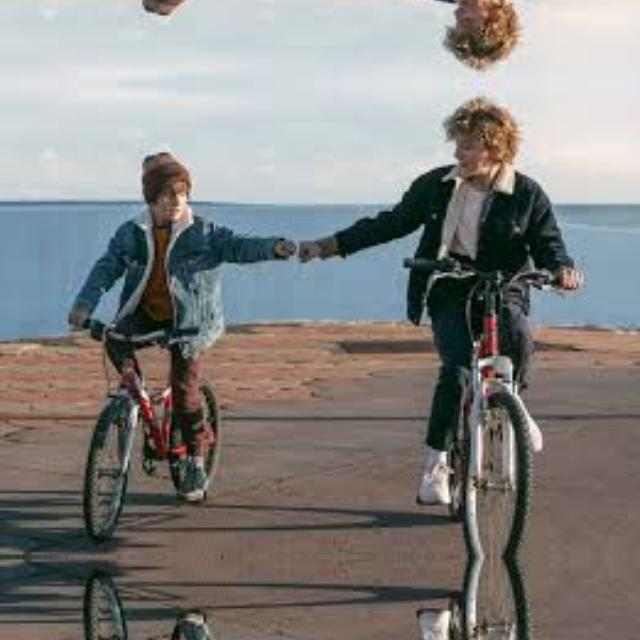obstacle: (403, 248, 571, 556), (403, 556, 571, 640)
